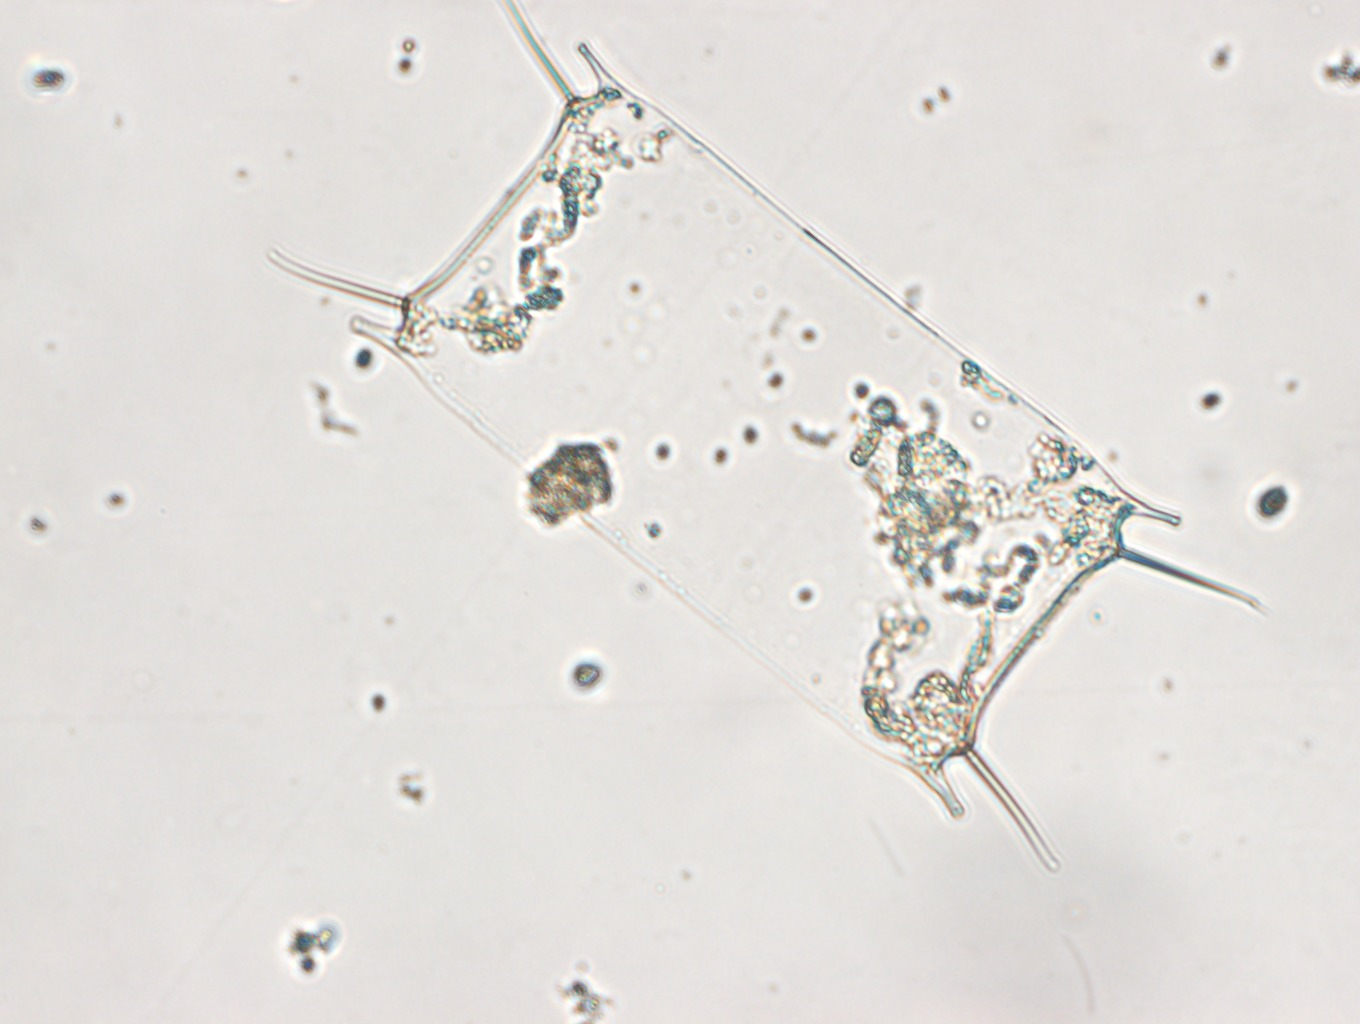biddulphia: (264, 1, 1266, 872)
